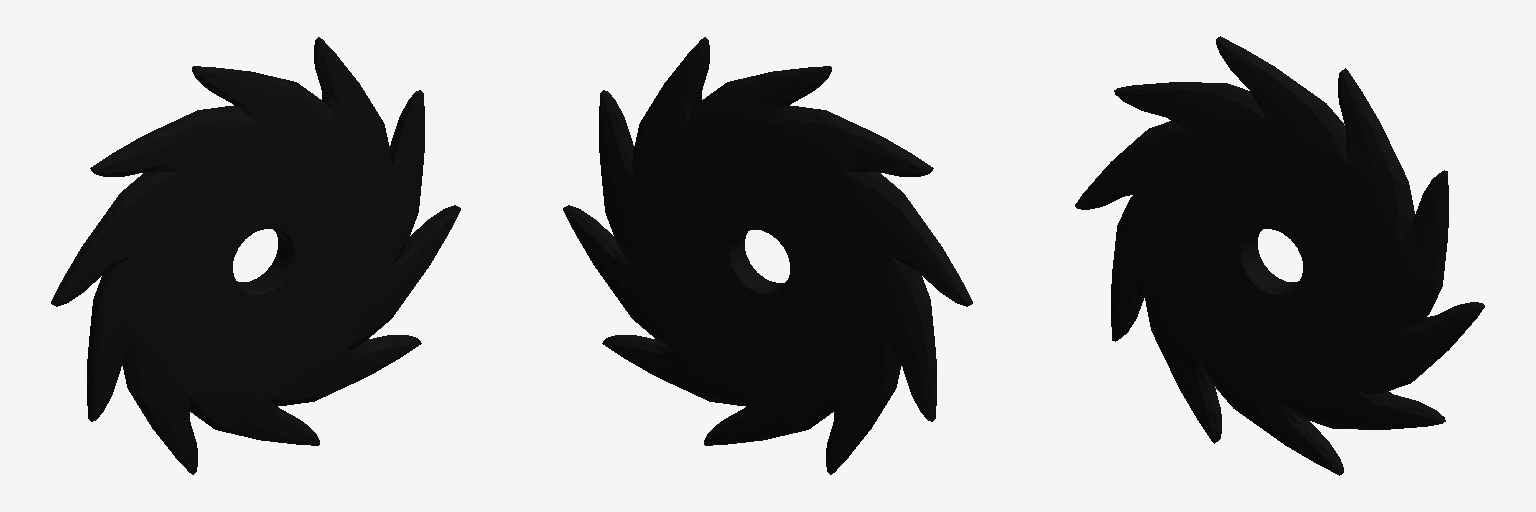
File: Hazard_Saw.obj
3 views of the same model, side by side, from view 1: azimuth 30°, elevation 25°; view 2: azimuth 150°, elevation 25°; view 3: azimuth 330°, elevation 25° (orthographic).
Parts seen in each view (by area): view 1: Hazard_Saw; view 2: Hazard_Saw; view 3: Hazard_Saw.
Part boxes in pixels (left/top/right/bottom): Hazard_Saw: left=51, top=37, right=460, bottom=474; Hazard_Saw: left=563, top=37, right=972, bottom=474; Hazard_Saw: left=1075, top=36, right=1484, bottom=475.
Size of the model in its own units: 3 by 2.86 by 0.1978.